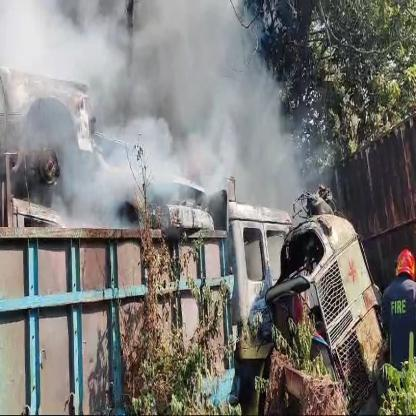Smoke: (0, 0, 347, 255)
